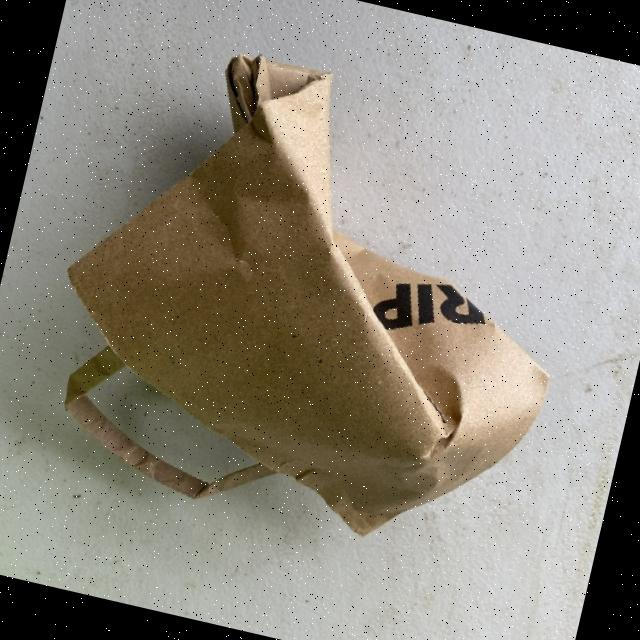paper: (22, 21, 606, 571)
